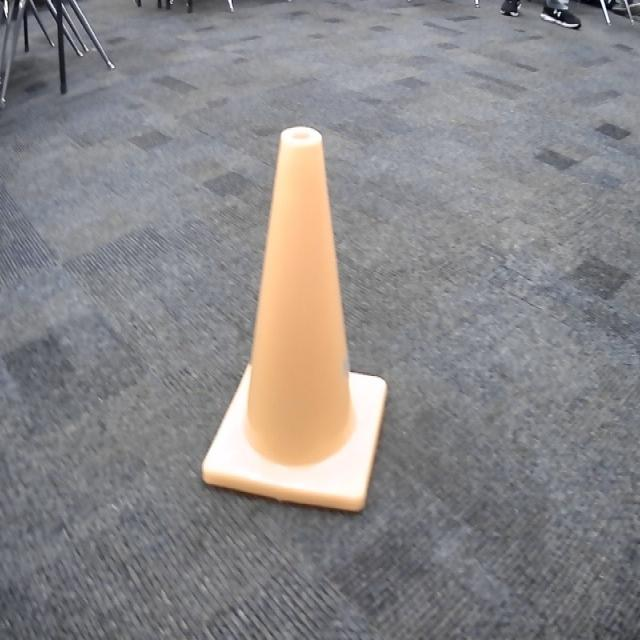cone: (197, 123, 388, 519)
